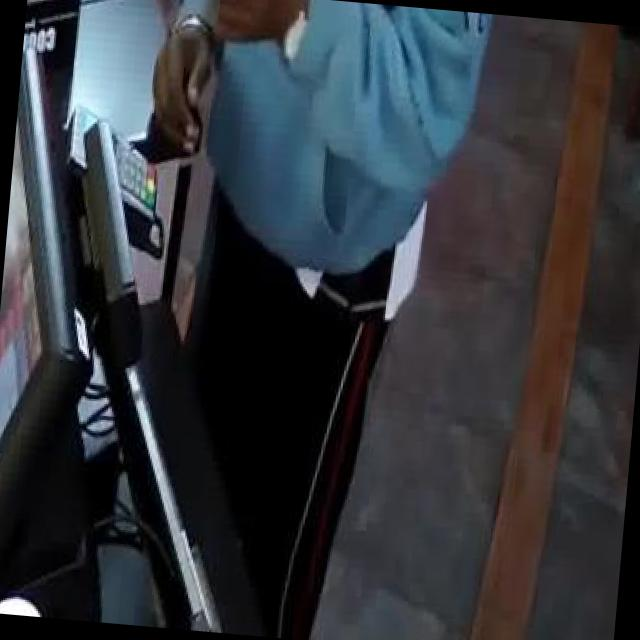Guns: (163, 0, 300, 39)
